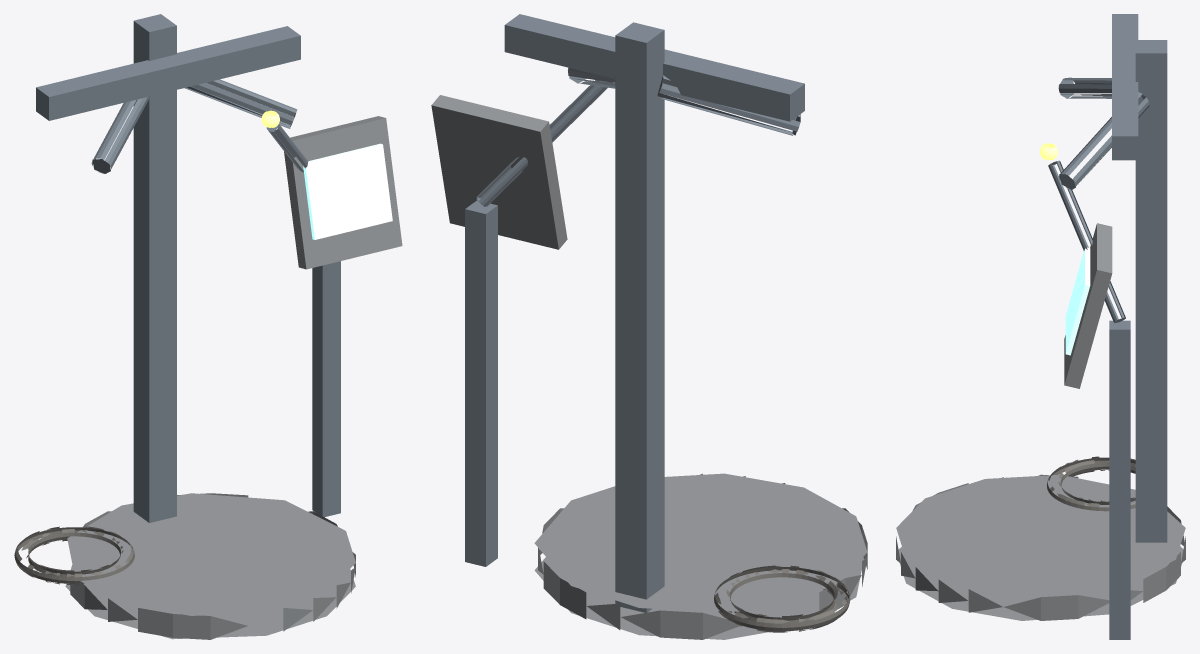
Rendered from suit-stand-lod1.glb.
The picture shows the model from 3 angles, left to right: view 1: azimuth 30°, elevation 25°; view 2: azimuth 150°, elevation 25°; view 3: azimuth 270°, elevation 25°; orthographic projection. The views are drawn at different scales.
Parts seen in each view (by area): view 1: Base.001, Post, CrossBar, Panel, PanelPost, PanelScreen, CableCoil, ArmR, ArmL, LampArm; view 2: Base.001, Post, Panel, PanelPost, CrossBar, CableCoil, LampArm, ArmL; view 3: Base.001, Post, PanelPost, CrossBar, Panel, CableCoil, ArmR, PanelScreen, LampArm, ArmL.
Part boxes in pixels (box(x1,y1,x2,y2)): Base.001: box(65, 493, 355, 639); Post: box(133, 14, 176, 522); CrossBar: box(36, 26, 300, 120); Panel: box(284, 116, 402, 269); PanelPost: box(312, 261, 340, 517); PanelScreen: box(303, 143, 392, 239); CableCoil: box(14, 526, 134, 585); ArmR: box(184, 79, 297, 128); ArmL: box(91, 96, 150, 173); LampArm: box(266, 124, 308, 172); Base.001: box(534, 473, 867, 639); Post: box(615, 22, 664, 612); Panel: box(431, 95, 567, 249); PanelPost: box(465, 200, 497, 566); CrossBar: box(504, 14, 804, 121); CableCoil: box(714, 565, 850, 632); LampArm: box(476, 80, 612, 207); ArmL: box(657, 75, 800, 135); Base.001: box(896, 474, 1185, 620); Post: box(1135, 40, 1167, 542); PanelPost: box(1109, 320, 1130, 639); CrossBar: box(1112, 14, 1138, 160); Panel: box(1064, 223, 1112, 388); CableCoil: box(1047, 456, 1135, 511); ArmR: box(1058, 92, 1149, 189); PanelScreen: box(1065, 247, 1090, 355); LampArm: box(1048, 160, 1125, 323); ArmL: box(1058, 77, 1111, 98).
Bounding box in the file's own units: 1.57 × 2.15 × 1.1.
